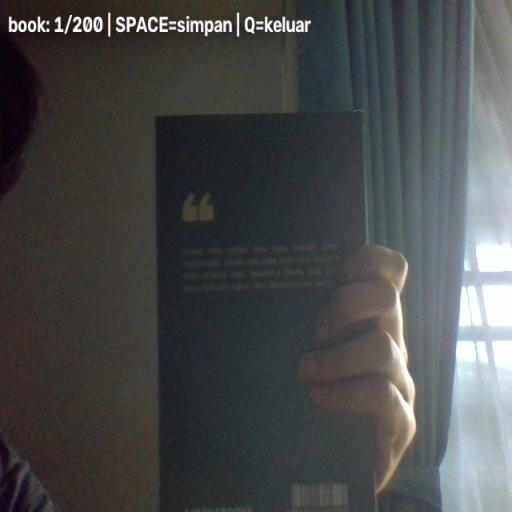Book: (155, 110, 376, 512)
